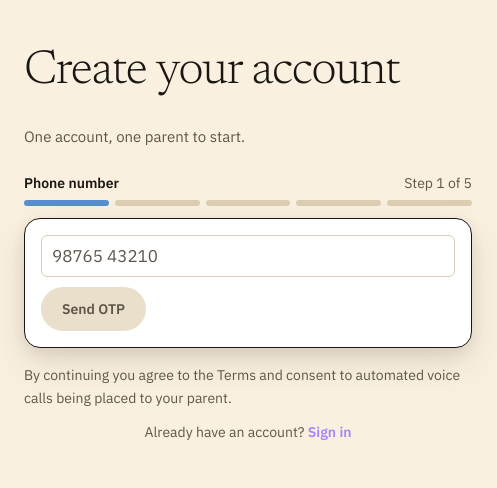
an existing caregiver who tries to sign up › is told to log in, and never gets an SMS
This screenshot has width=497, height=488.
Later steps or results of the test are not shown.
Type "9876543210" into the field named "your phone number" at (248, 256), box [41,235,455,277]
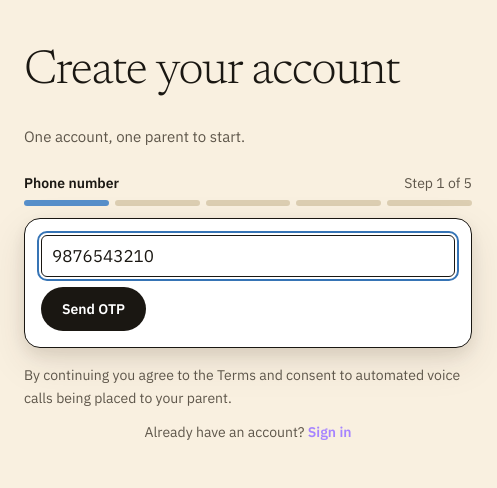
Click the button "Send OTP" at (94, 309), box [41,287,146,331]
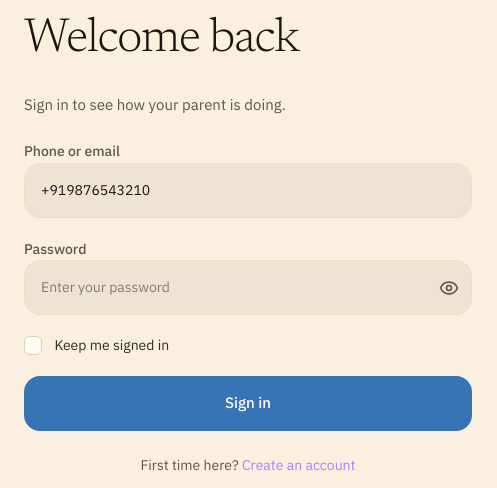
Expected: the field labelled "Phone or email" holds "+919876543210", [25,164,471,216]
